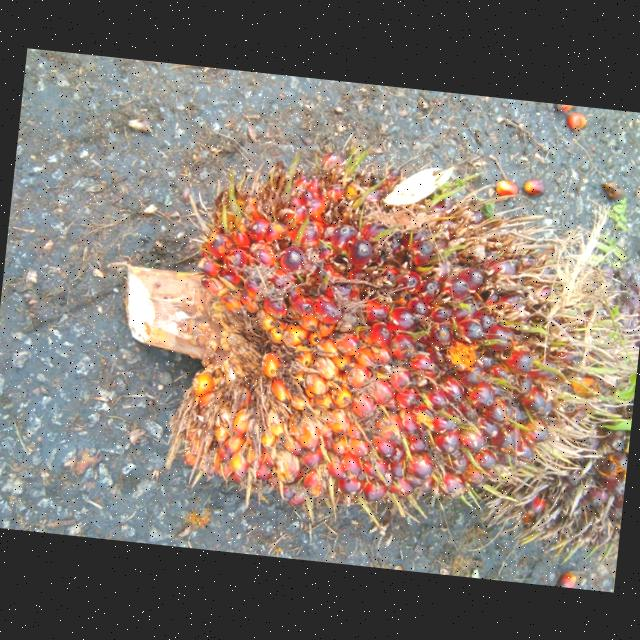Ripe: (165, 150, 612, 505)
